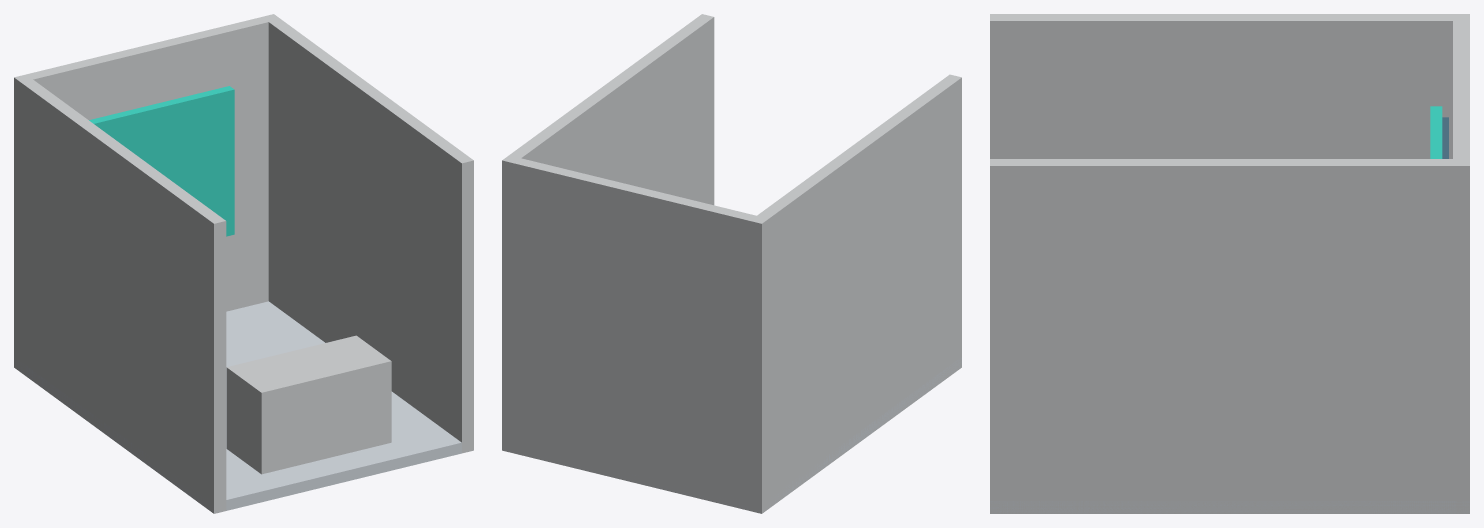
3 views of the same model, side by side, from view 1: azimuth 30°, elevation 25°; view 2: azimuth 150°, elevation 25°; view 3: azimuth 270°, elevation 25° (orthographic). The views are drawn at different scales.
Parts seen in each view (by area): view 1: Exhibition Booth Concept; view 2: Exhibition Booth Concept; view 3: Exhibition Booth Concept.
Part boxes in pixels (x1,y1,x2,y2): Exhibition Booth Concept: [14, 14, 473, 513]; Exhibition Booth Concept: [502, 14, 961, 513]; Exhibition Booth Concept: [990, 14, 1469, 513].
Size of the model in its own units: 3 by 3.2 by 4.
